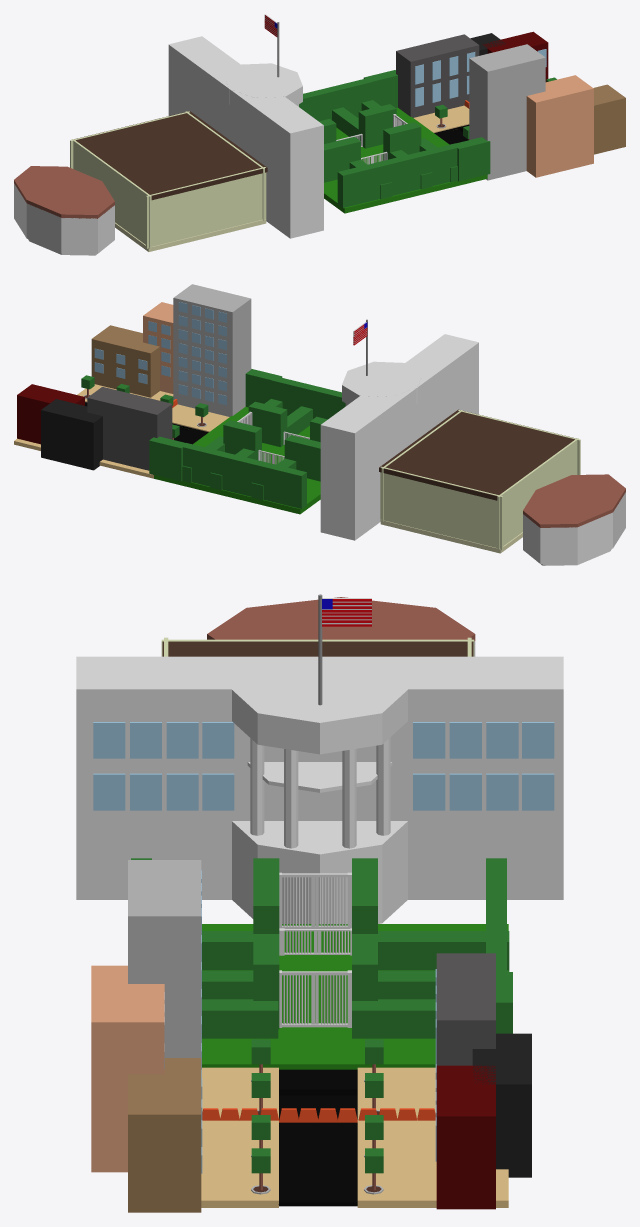
File: Levels_New.fbx
The picture shows the model from 3 angles, top to bottom: view 1: azimuth 30°, elevation 25°; view 2: azimuth 150°, elevation 25°; view 3: azimuth 270°, elevation 25°; orthographic projection. The views are drawn at different scales.
Visible parts, largest first — view 1: Cube.107, Cube.086, roof, Cube.019, Cube.021, Cube.260, Cube.004, Roof, Walls, Cylinder.017, Cube.082, Cube.020 (+13 smaller); view 2: Cube.107, roof, Cube.086, Cube.019, Cube.004, Cube.261, Roof, Walls, Cube.011, Cube.020, Cylinder.017, Cube.082 (+14 smaller); view 3: Cube.107, Cylinder.017, Cube.082, Cube.019, Cylinder.020, Cube.021, Cube.020, Road, Cube.016, Cube.010, Cube.017, Roof (+41 smaller).
Part boxes in pixels (x1=…): Cube.107: x1=168, y1=36, x2=323, y2=238; Cube.086: x1=70, y1=111, x2=266, y2=248; roof: x1=74, y1=111, x2=267, y2=200; Cube.019: x1=469, y1=44, x2=545, y2=180; Cube.021: x1=526, y1=75, x2=593, y2=177; Cube.260: x1=337, y1=143, x2=460, y2=208; Cube.004: x1=396, y1=34, x2=479, y2=117; Roof: x1=14, y1=166, x2=114, y2=218; Walls: x1=14, y1=183, x2=114, y2=255; Cylinder.017: x1=223, y1=63, x2=302, y2=105; Cube.082: x1=324, y1=108, x2=487, y2=213; Cube.020: x1=593, y1=84, x2=625, y2=154; Cube.107: x1=320, y1=334, x2=478, y2=540; roof: x1=379, y1=409, x2=576, y2=500; Cube.086: x1=380, y1=410, x2=580, y2=550; Cube.019: x1=173, y1=284, x2=251, y2=416; Cube.004: x1=87, y1=387, x2=172, y2=470; Cube.261: x1=181, y1=443, x2=306, y2=509; Roof: x1=523, y1=474, x2=625, y2=527; Walls: x1=523, y1=492, x2=625, y2=565; Cube.011: x1=41, y1=399, x2=102, y2=470; Cube.020: x1=91, y1=325, x2=159, y2=397; Cylinder.017: x1=342, y1=361, x2=422, y2=404; Cube.082: x1=153, y1=406, x2=320, y2=514; Cube.107: x1=76, y1=656, x2=563, y2=899; Cylinder.017: x1=232, y1=656, x2=407, y2=754; Cube.082: x1=202, y1=924, x2=508, y2=1069; Cube.019: x1=128, y1=860, x2=201, y2=1057; Cylinder.020: x1=232, y1=821, x2=407, y2=924; Cube.021: x1=91, y1=965, x2=164, y2=1172; Cube.020: x1=128, y1=1058, x2=201, y2=1212; Road: x1=278, y1=1069, x2=357, y2=1206; Cube.016: x1=357, y1=1067, x2=508, y2=1207; Cube.010: x1=436, y1=1065, x2=495, y2=1209; Cube.017: x1=201, y1=1067, x2=278, y2=1207; Roof: x1=207, y1=597, x2=475, y2=641.
Size of the model in its own units: 12724 by 3639 by 4914.
